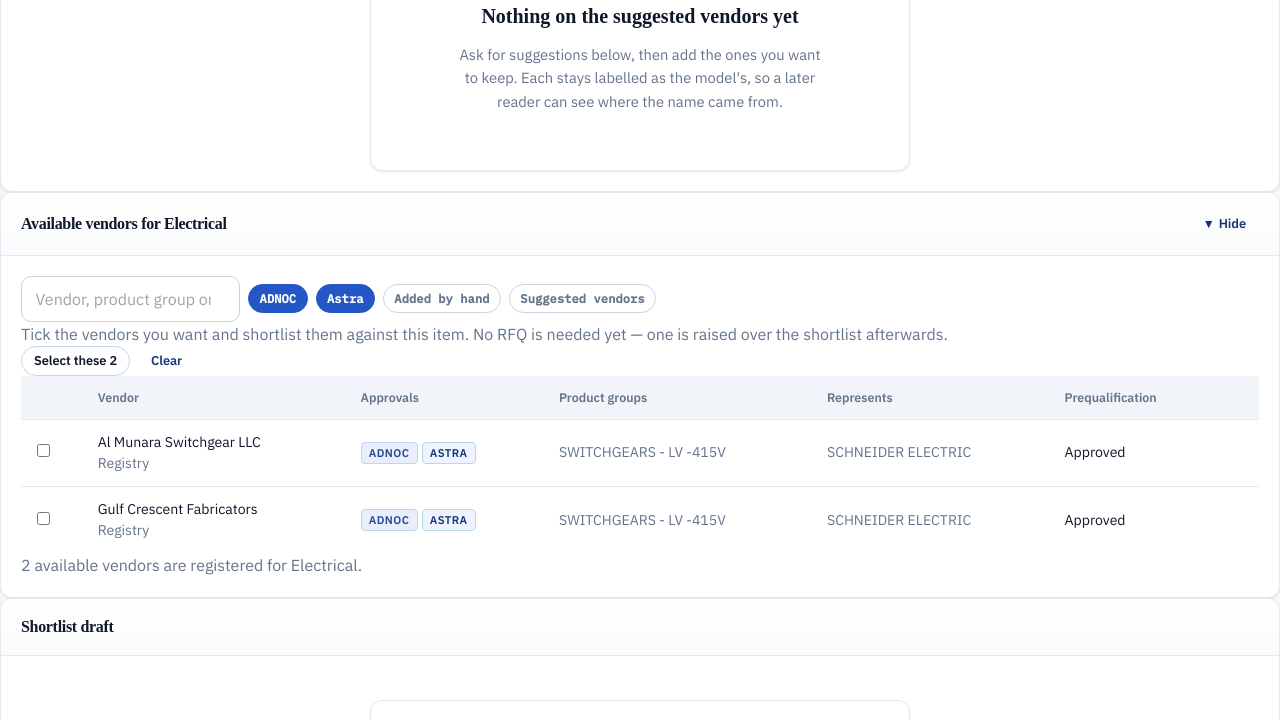
Test: ItemDetail › selects the vendors that are actually on screen
This screenshot has width=1280, height=720.
(page scrolled)
Step 1. Click the button "Select these 2" → x=76, y=361, box [21,346,130,376]
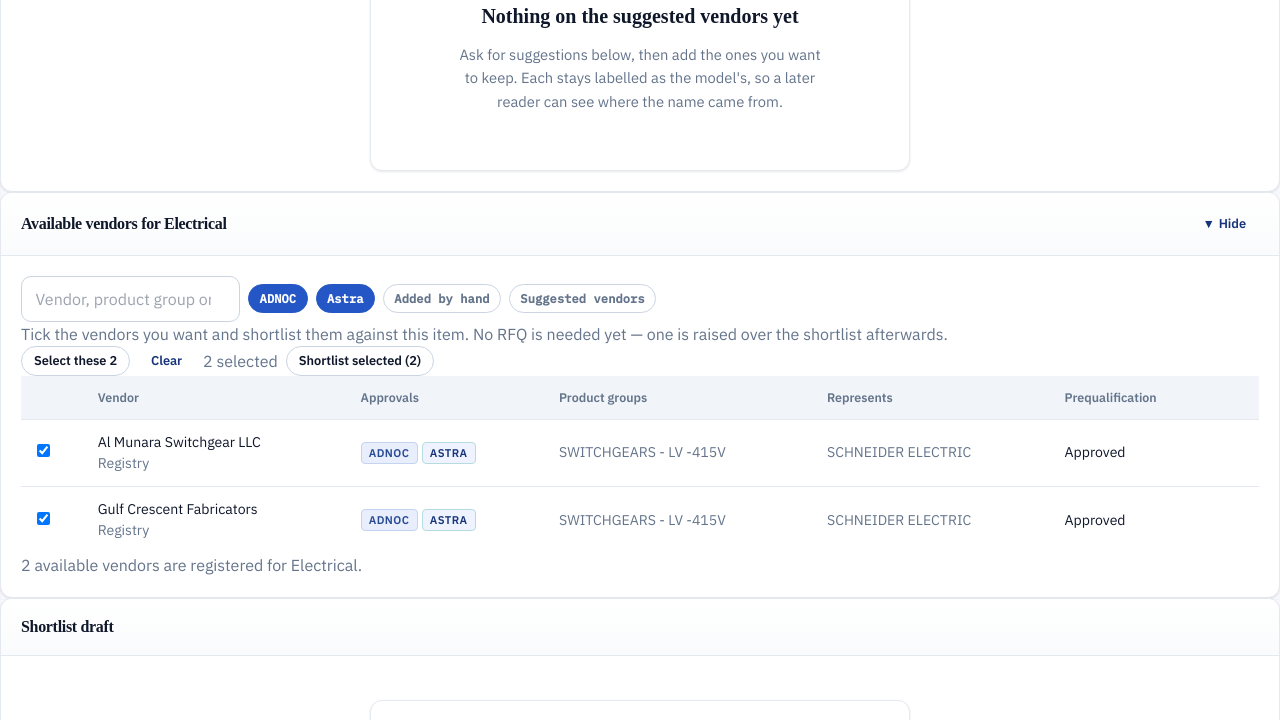
Expected: the text "2 selected" is shown, [203,349,278,373]
